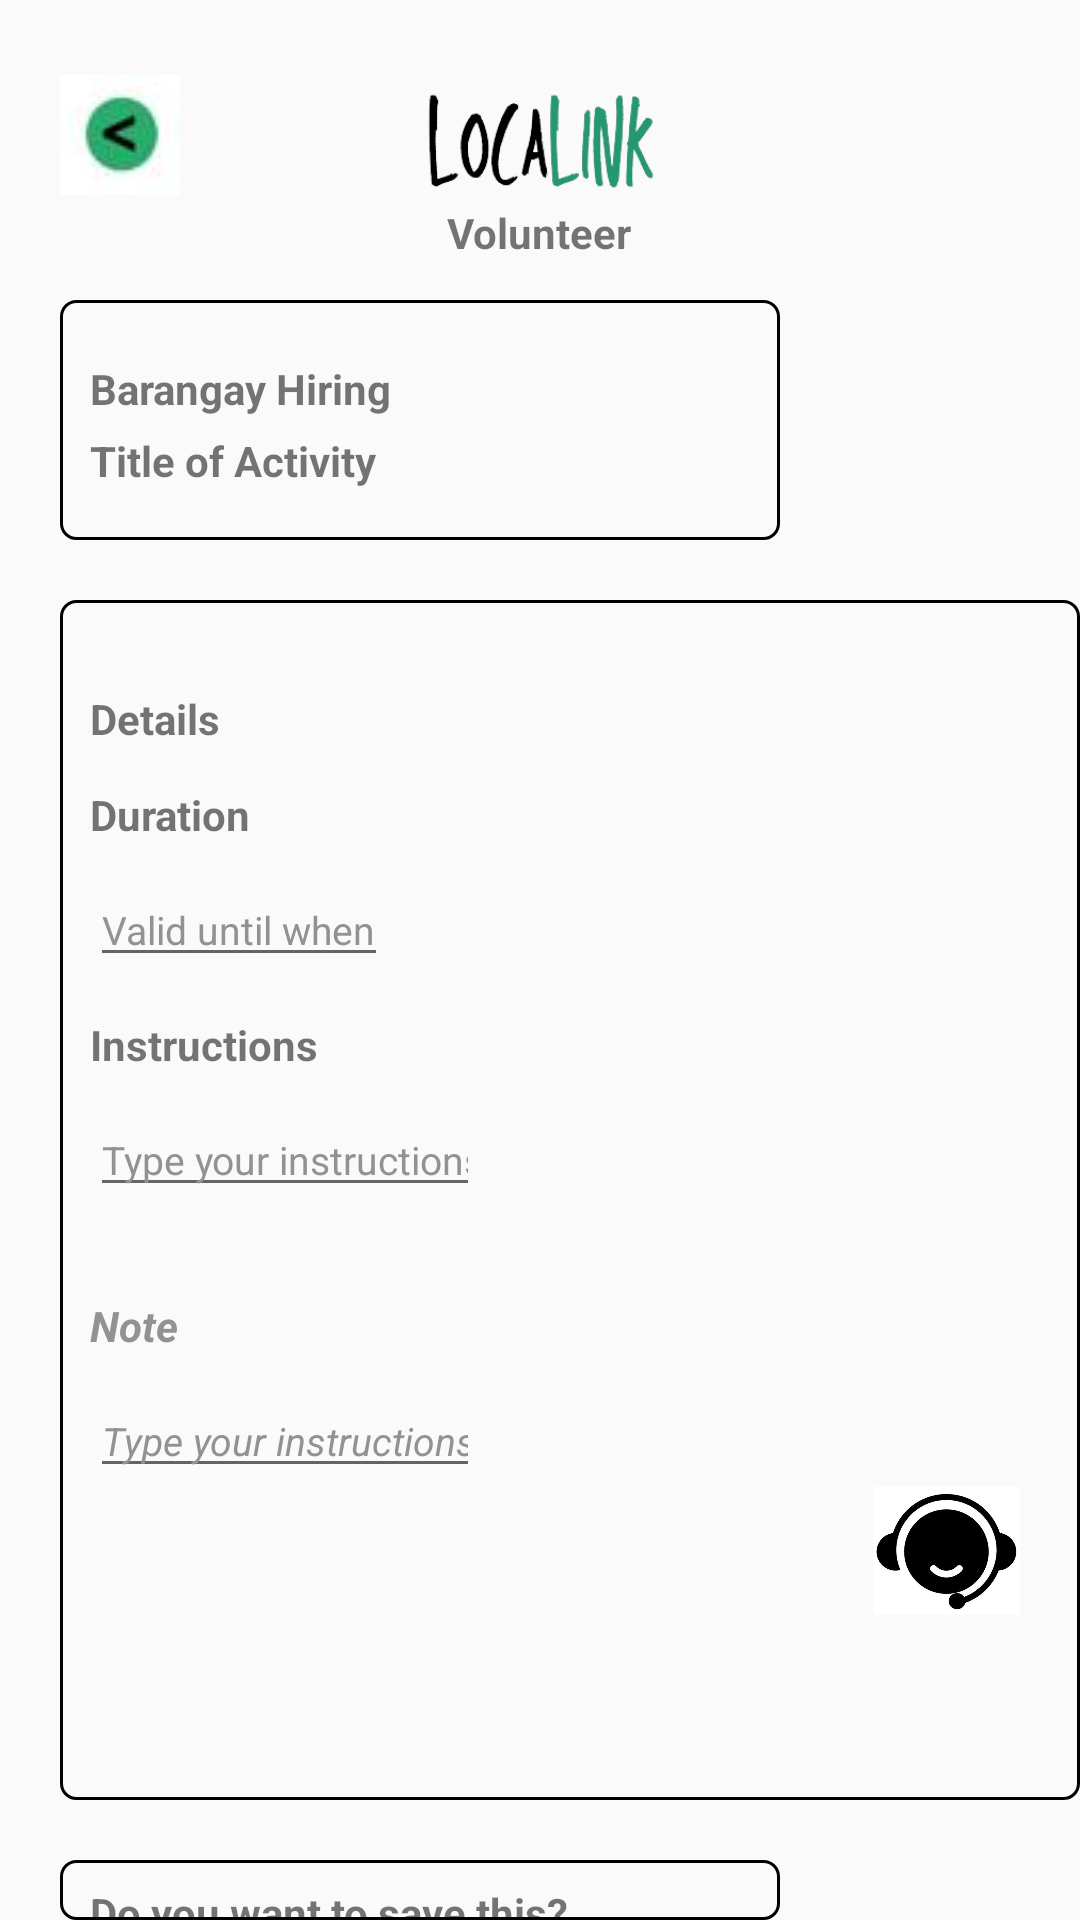

Where icons sit on this 1080 x 1920 app screen, as bbox=[x1, y1, x2, y2]:
backbtn: bbox=[83, 94, 160, 175]
customersupport: bbox=[876, 1494, 1017, 1609]
